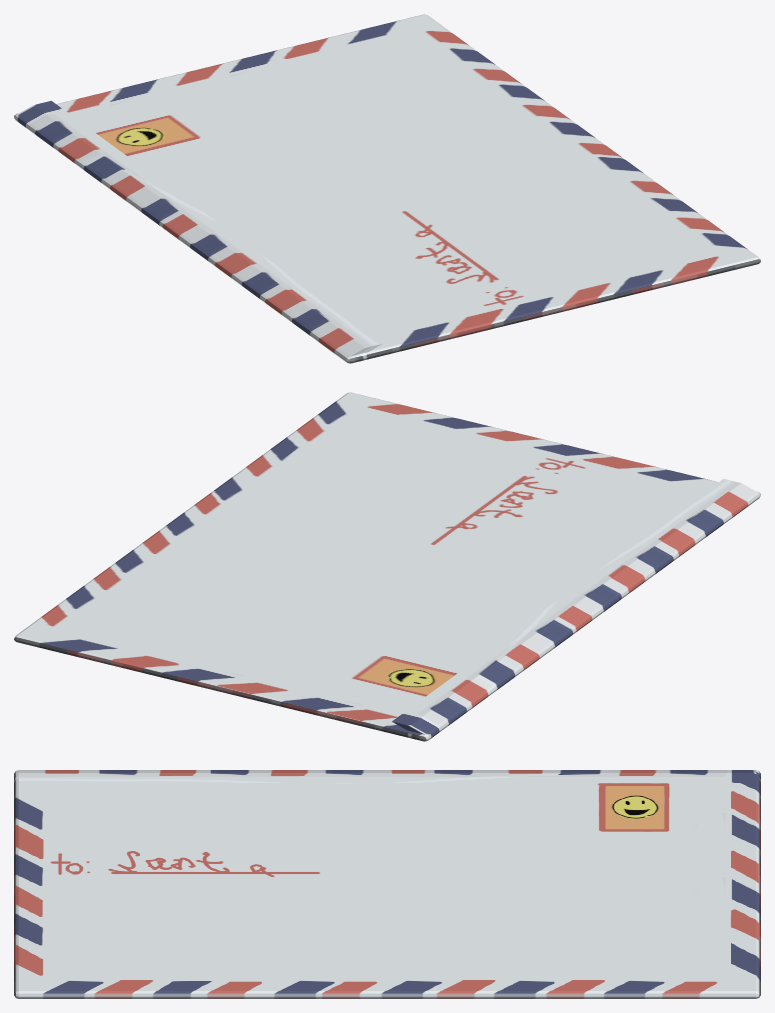
Rendered from envelope.fbx.
3 views of the same model, one above another, from view 1: azimuth 30°, elevation 25°; view 2: azimuth 150°, elevation 25°; view 3: azimuth 270°, elevation 25° (orthographic). The views are drawn at different scales.
Parts seen in each view (by area): view 1: Plane; view 2: Plane; view 3: Plane.
Boxes of the visible parts, x1,y1,x2,y2 form: Plane: (14, 14, 760, 363); Plane: (14, 392, 760, 741); Plane: (14, 770, 760, 998).
Bounding box in the file's own units: 116 × 3.16 × 163.
